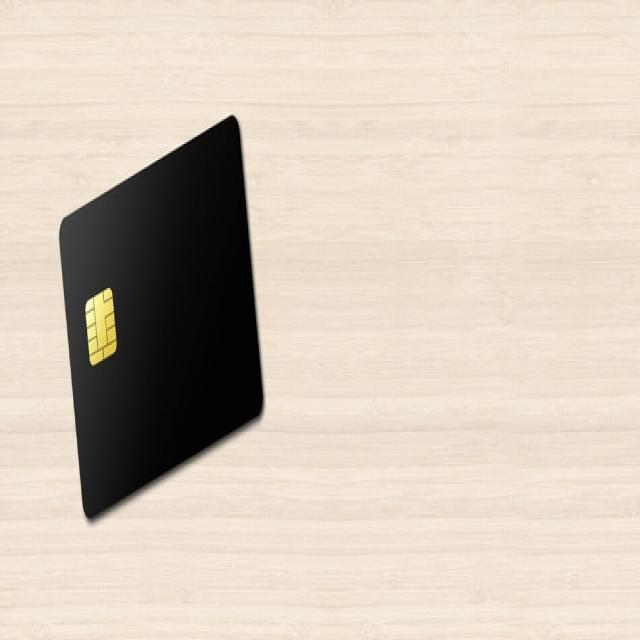payment_card: (57, 112, 265, 519)
